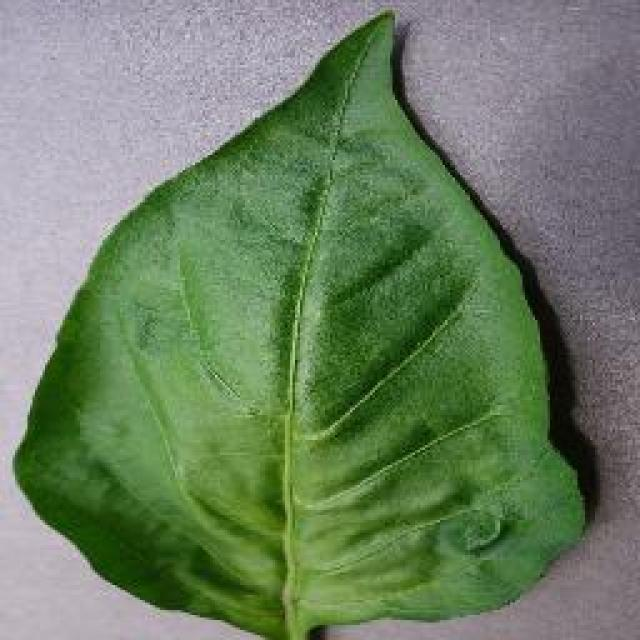Leaf: (33, 8, 587, 632)
